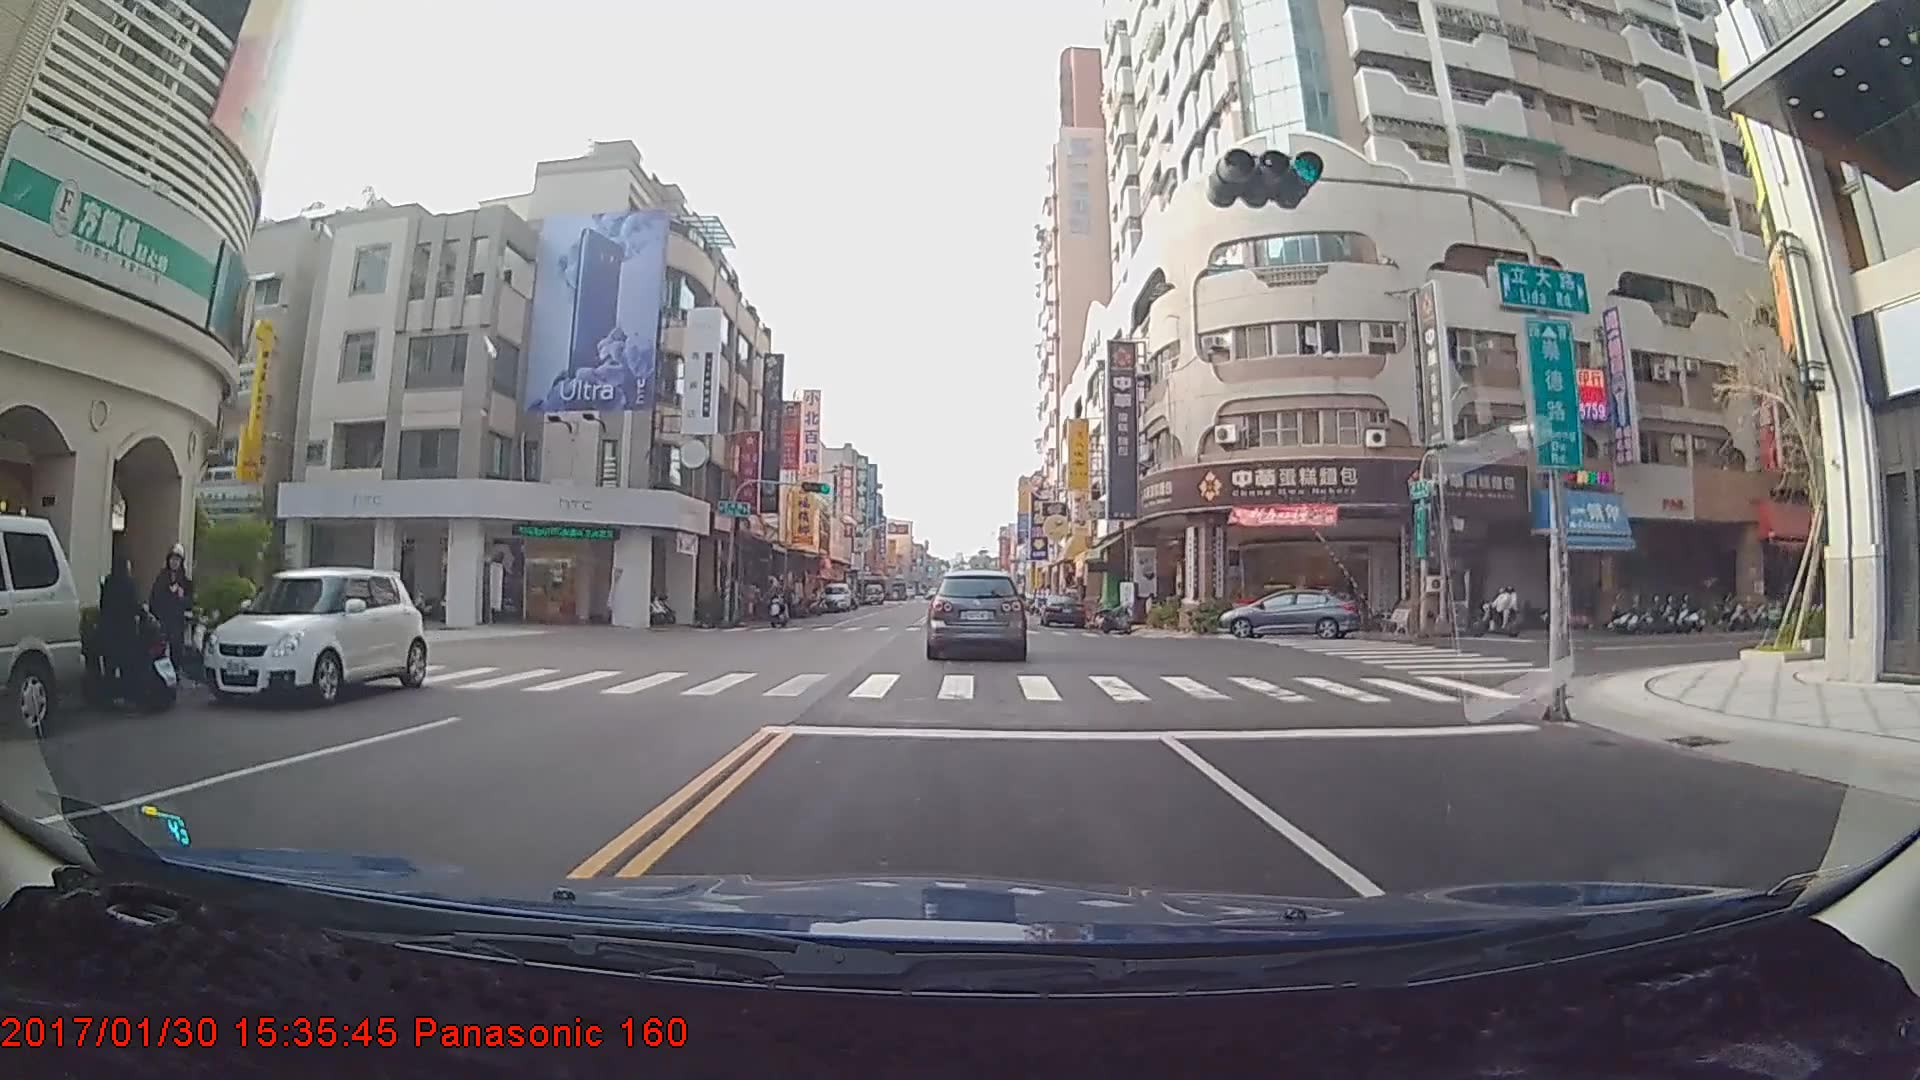pedestrian: (143, 536, 198, 702)
rider: (1469, 586, 1528, 638), (762, 582, 795, 632)
vehicle: (210, 567, 429, 705), (0, 516, 87, 739), (927, 570, 1026, 660), (1217, 584, 1364, 642), (1042, 593, 1088, 629), (820, 582, 852, 613)
